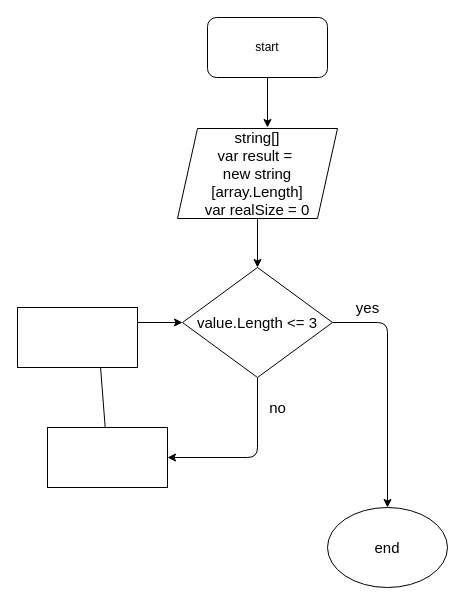
Some shapes in this 465 by 605 pixel diagram are drawn without their labels. The shapes that lost their labels are listed below. From the top down, each one's centre as x and y in pixels, then its label:
point (77, 337): result[realSize] = value
point (107, 457): realSize++
